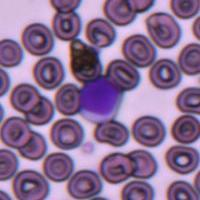L: (78, 76, 123, 123)
